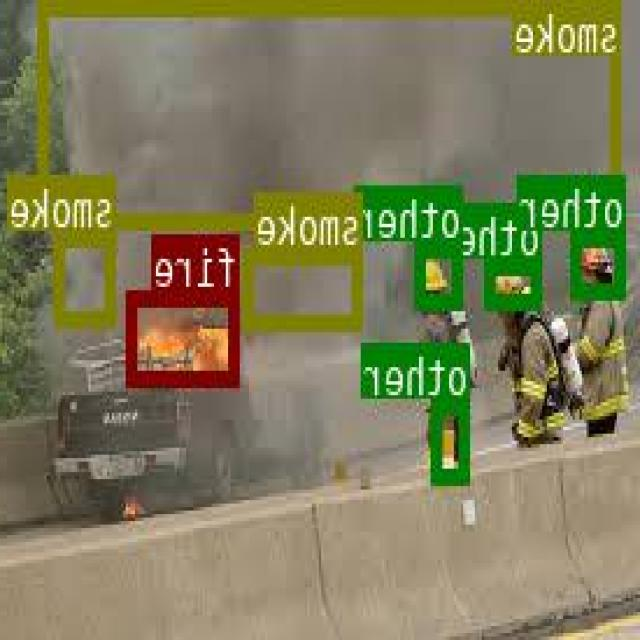fire: (130, 290, 242, 383)
other: (574, 228, 627, 294), (418, 240, 464, 306), (488, 256, 544, 308), (435, 398, 470, 479)
smoke: (39, 0, 622, 224), (246, 246, 364, 325), (56, 228, 119, 322)
